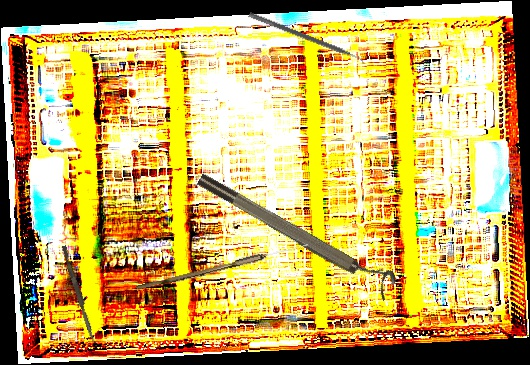Fixation Ring: (194, 161, 400, 302)
Pusher: (59, 245, 99, 344)
Spatula Surgical: (246, 11, 367, 68)
Surgical Spoon: (135, 240, 310, 294)
